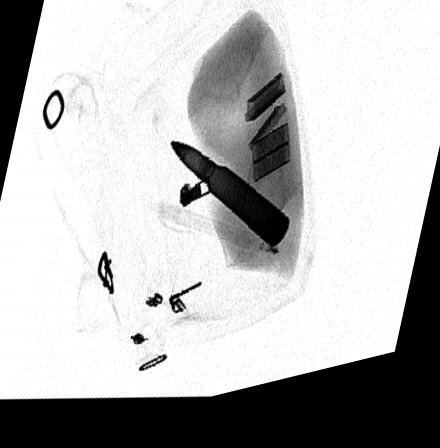Bullet: (167, 147, 290, 262)
